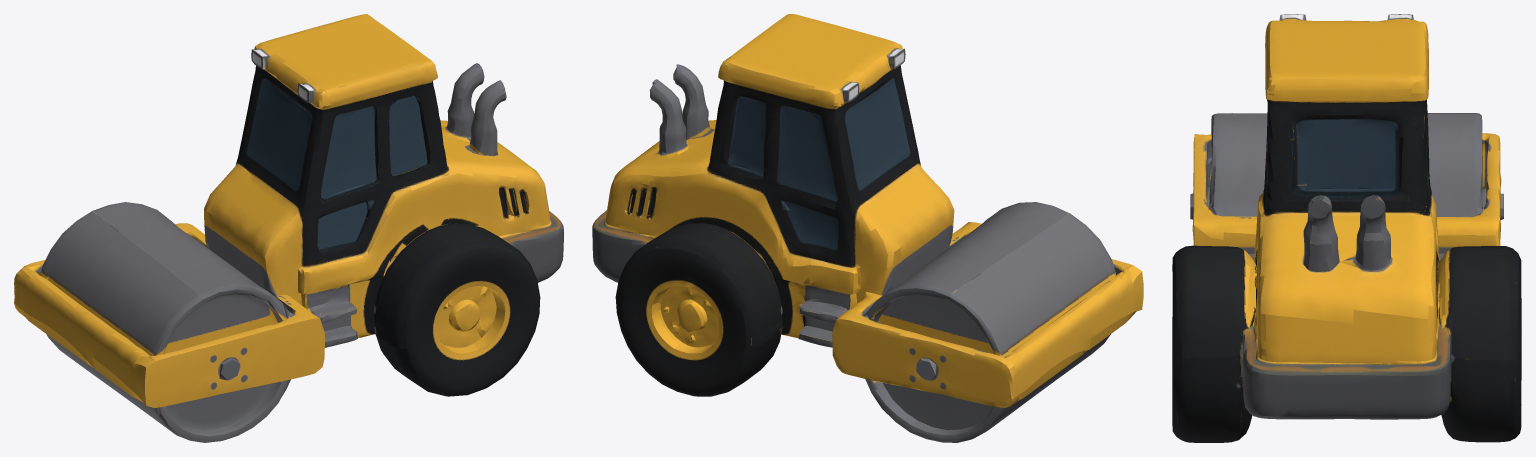
Rendered from avenida.glb.
The picture shows the model from 3 angles, left to right: view 1: azimuth 30°, elevation 25°; view 2: azimuth 150°, elevation 25°; view 3: azimuth 270°, elevation 25°; orthographic projection. The views are drawn at different scales.
Visible parts, largest first — view 1: Mesh0; view 2: Mesh0; view 3: Mesh0.
Part boxes in pixels (x1,y1,x2,y2): Mesh0: (14,14,563,442); Mesh0: (592,14,1143,442); Mesh0: (1172,14,1521,442).
Size of the model in its own units: 1.9 by 1.24 by 1.1.
Materials: 1 (1 with a texture image).
